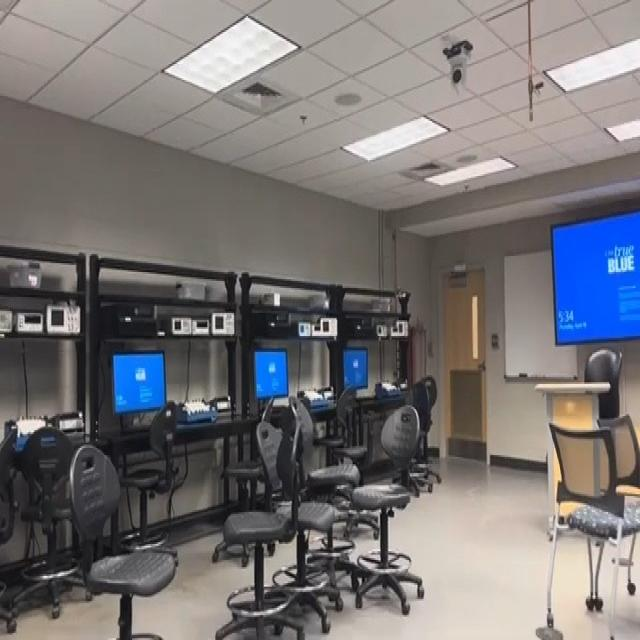drone: (383, 277, 418, 317)
